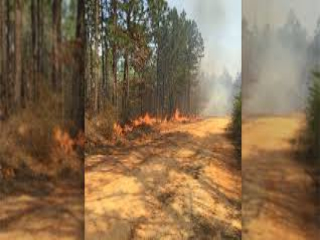fire: (128, 107, 201, 133), (49, 126, 78, 155), (110, 119, 128, 139), (17, 120, 30, 137)
smoke: (198, 71, 236, 125)
